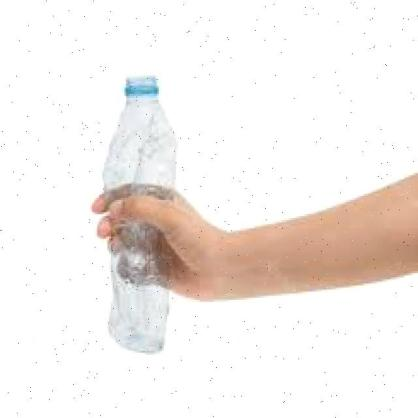bottle: (96, 66, 189, 374)
